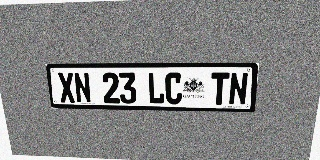2: (102, 72, 120, 103)
3: (119, 72, 136, 104)
C: (165, 72, 182, 104)
L: (147, 72, 165, 104)
N: (228, 72, 249, 105), (73, 72, 92, 103)
T: (210, 72, 230, 105)
X: (57, 72, 76, 103)
